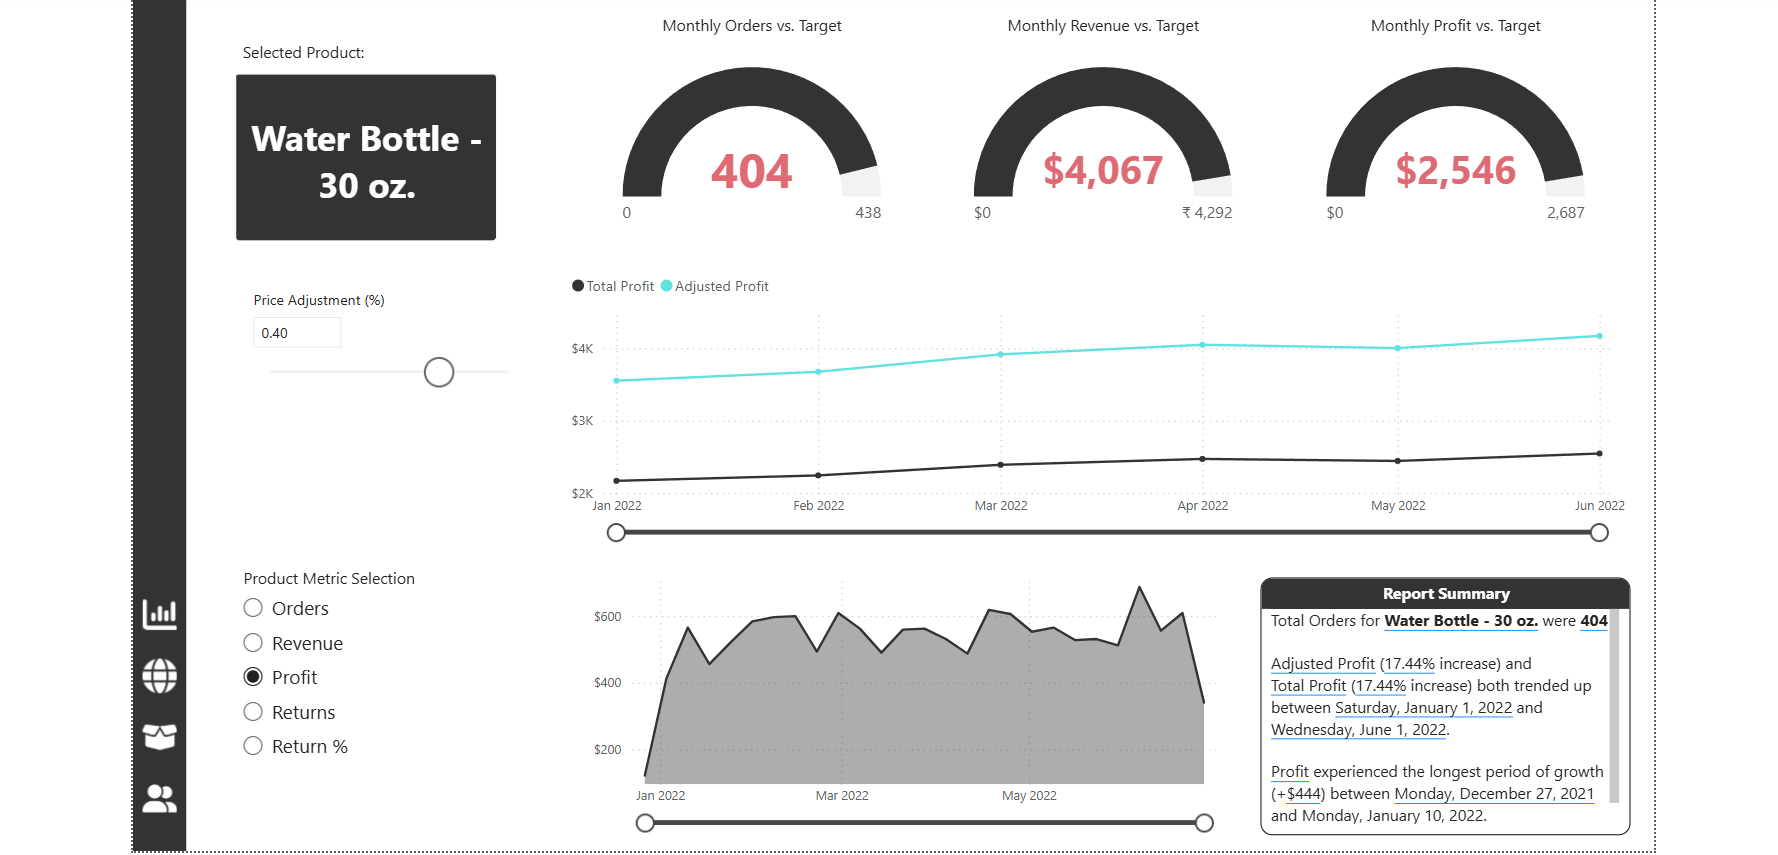

This screenshot's page, from the dashboard's own definition file:
{"tool":"powerbi","page":{"name":"Product Detail","canvas":[1280,720],"ordinal":2},"visuals":[{"type":"shape","box":[0,0,45,720],"z":0},{"type":"gauge","title":"Monthly Orders vs. Target","fields":{"MaxValue":["Measure Table.Order Target"],"Y":["Measure Table.Total Orders"]},"box":[406.8,16.2,227.6,209],"z":1000},{"type":"actionButton","box":[0,502.5,44.8,37.3],"z":1000,"group":"g1"},{"type":"gauge","title":"Monthly Revenue vs. Target","fields":{"MaxValue":["Measure Table.Revenue Target"],"Y":["Measure Table.Total Revenue"]},"box":[702.8,16.2,227.6,209],"z":2000},{"type":"actionButton","box":[0,553.9,44.8,37.3],"z":2000,"group":"g1"},{"type":"gauge","title":"Monthly Profit vs. Target","fields":{"MaxValue":["Measure Table.Profit Target"],"Y":["Measure Table.Total Profit"]},"box":[998.9,16.2,227.6,209],"z":3000},{"type":"actionButton","box":[0,605.3,44.8,37.3],"z":3000,"group":"g1"},{"type":"lineChart","title":"Profit Trending","fields":{"Category":["Calendar Lookup.Date Hierarchy.Start of Year","Calendar Lookup.Date Hierarchy.Start of Month","Calendar Lookup.Date Hierarchy.Start of Week","Calendar Lookup.Date Hierarchy.Date"],"Y":["Measure Table.Total Profit","Measure Table.Adjusted Profit"]},"box":[363.6,225.1,896,238.1],"z":4000},{"type":"actionButton","box":[0,656.8,44.8,37.3],"z":4000,"group":"g1"},{"type":"areaChart","title":"Returns Trending","fields":{"Category":["Calendar Lookup.Date Hierarchy.Start of Year","Calendar Lookup.Date Hierarchy.Start of Month","Calendar Lookup.Date Hierarchy.Start of Week"],"Y":["Measure Table.Total Profit"]},"box":[383.1,480.2,547.3,226.4],"z":5000},{"type":"cardVisual","fields":{"Data":["Min(Product Lookup.ProductName)"]},"box":[68.8,48.8,255,176.2],"z":6000},{"type":"textbox","box":[87.5,33.8,221.2,28.8],"z":7000},{"type":"group","id":"g1","title":"Navigation Buttons","box":[0,502.5,45,191.2],"z":8000},{"type":"slicer","fields":{"Values":["Price Adjustment (%).Price Adjustment (%)"]},"box":[88,242.4,251,118.3],"z":9000},{"type":"slicer","fields":{"Values":["Product Metric Selection.Product Metric Selection"]},"box":[79.6,476.4,267.5,230.1],"z":10000},{"type":"textbox","title":"Report Summary","box":[947.9,490.1,311,216.4],"z":11000}]}

Visuals, with their boxes on the page's 1280x720 design canvas (x1, y1, x2, y2). These are canvas units, not pixel positions in the 1778x855 screenshot, which may show the page scaled, cropped or inside an application window:
shape: <region>0, 0, 45, 720</region>
"Monthly Orders vs. Target" gauge: <region>407, 16, 634, 225</region>
actionButton: <region>0, 502, 45, 540</region>
"Monthly Revenue vs. Target" gauge: <region>703, 16, 930, 225</region>
actionButton: <region>0, 554, 45, 591</region>
"Monthly Profit vs. Target" gauge: <region>999, 16, 1226, 225</region>
actionButton: <region>0, 605, 45, 643</region>
"Profit Trending" lineChart: <region>364, 225, 1260, 463</region>
actionButton: <region>0, 657, 45, 694</region>
"Returns Trending" areaChart: <region>383, 480, 930, 707</region>
cardVisual - Min(Product Lookup.ProductName): <region>69, 49, 324, 225</region>
textbox: <region>88, 34, 309, 63</region>
"Navigation Buttons" group: <region>0, 502, 45, 694</region>
slicer - Price Adjustment (%).Price Adjustment (%): <region>88, 242, 339, 361</region>
slicer - Product Metric Selection.Product Metric Selection: <region>80, 476, 347, 706</region>
"Report Summary" textbox: <region>948, 490, 1259, 706</region>
